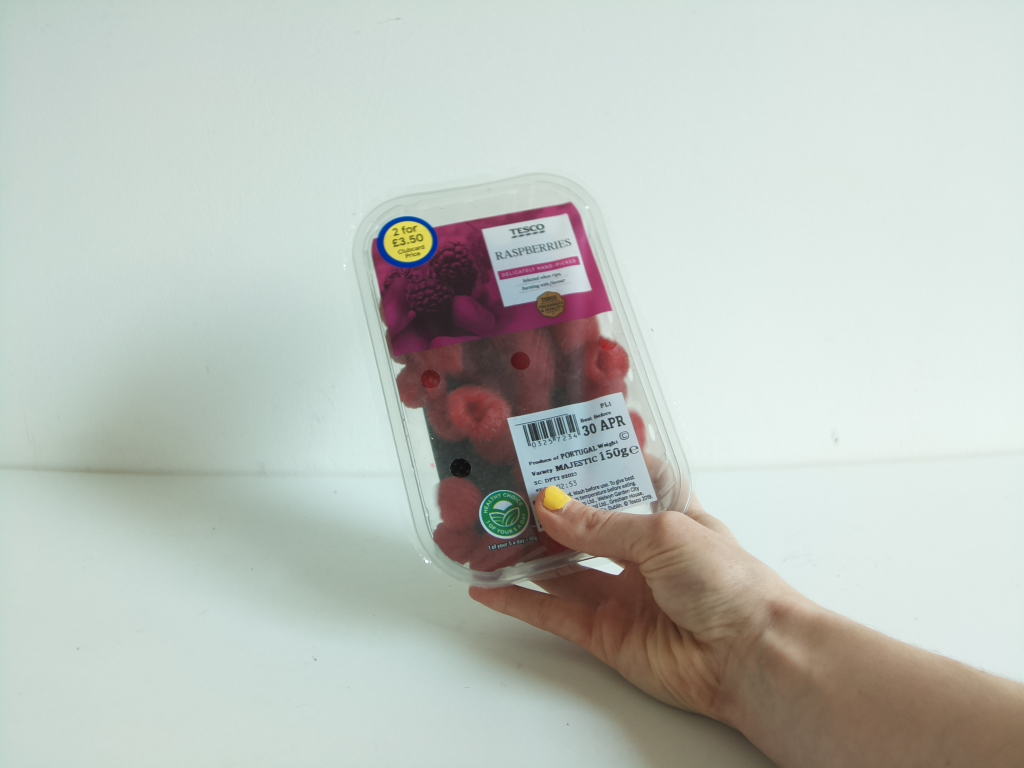soft-fruit: (354, 175, 691, 587)
